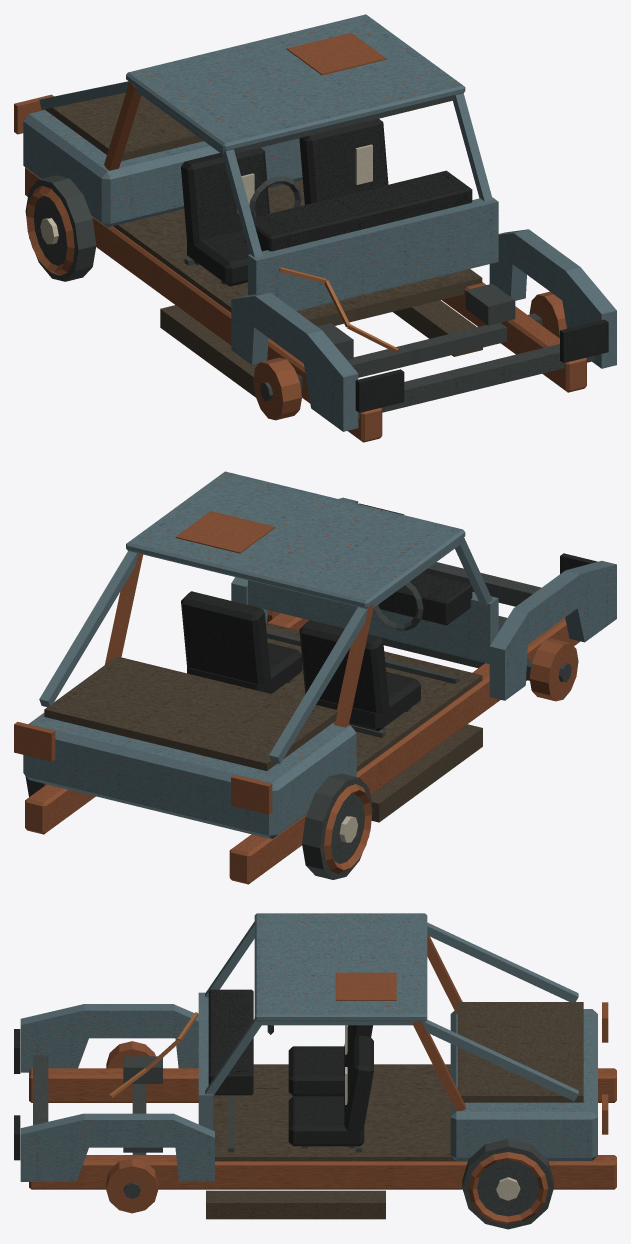
The model's file is CompactSalvageShell.fbx.
3 views of the same model, one above another, from view 1: azimuth 30°, elevation 25°; view 2: azimuth 150°, elevation 25°; view 3: azimuth 270°, elevation 25° (orthographic). The views are drawn at different scales.
Visible parts, largest first — view 1: CompactSalvageShell; view 2: CompactSalvageShell; view 3: CompactSalvageShell.
Boxes of the visible parts, x1,y1,x2,y2 form: CompactSalvageShell: [14, 14, 616, 442]; CompactSalvageShell: [14, 471, 616, 884]; CompactSalvageShell: [14, 913, 616, 1229].
Size of the model in its own units: 170 by 129 by 335.
Materials: 1 (1 with a texture image).
